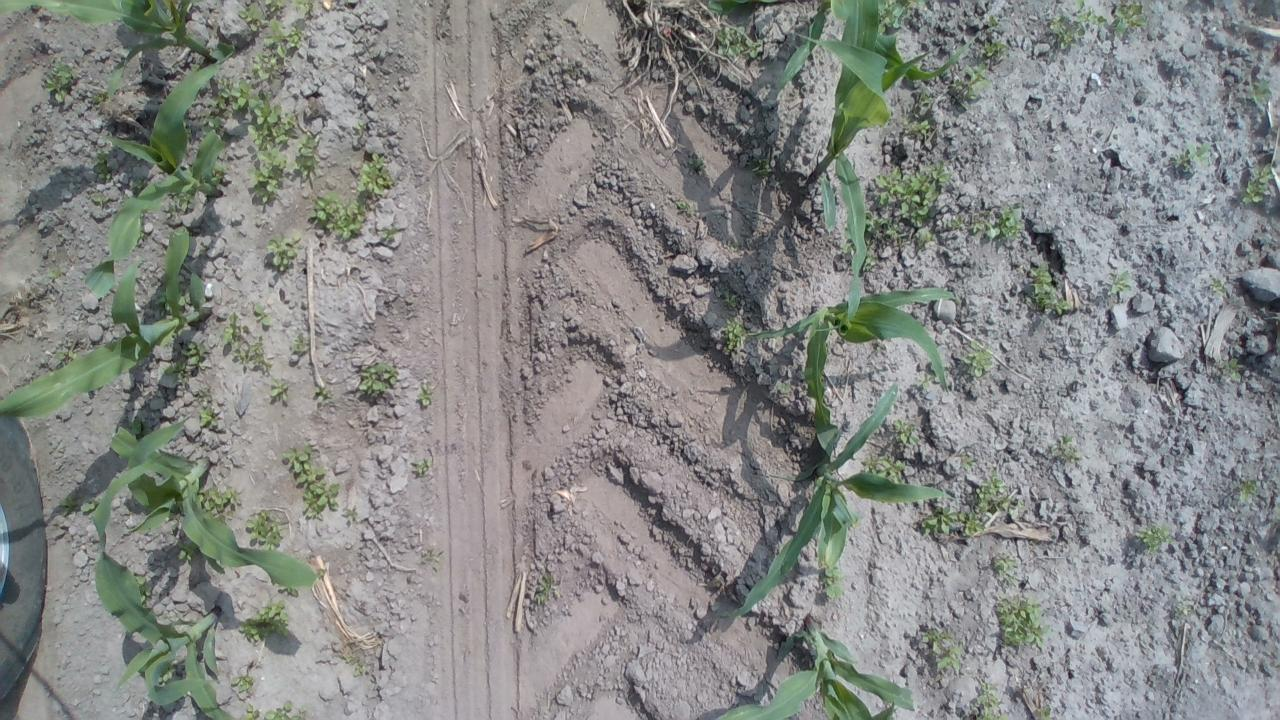Maize: (724, 382, 959, 616), (792, 0, 933, 339), (748, 287, 956, 483), (0, 226, 210, 419), (93, 464, 239, 720), (80, 52, 230, 301), (111, 419, 319, 588), (709, 0, 985, 91), (712, 614, 916, 720), (0, 0, 234, 92)
Weeds: (200, 77, 298, 146), (874, 161, 950, 229), (280, 445, 342, 520), (991, 593, 1054, 649), (248, 17, 303, 78), (222, 312, 272, 376), (306, 190, 368, 240), (920, 502, 986, 540), (244, 146, 288, 202), (1028, 261, 1072, 314), (974, 471, 1026, 514), (160, 339, 208, 385), (239, 599, 289, 643), (354, 152, 394, 198), (921, 628, 962, 672), (42, 62, 82, 105), (244, 510, 284, 551), (949, 64, 993, 101), (358, 358, 398, 398), (196, 484, 240, 520), (876, 0, 927, 31), (860, 454, 906, 486), (716, 25, 760, 58), (290, 128, 320, 176), (1241, 163, 1276, 204), (974, 681, 1009, 720), (961, 337, 994, 377), (266, 234, 301, 271), (1048, 15, 1086, 49), (861, 208, 900, 240), (1134, 523, 1173, 553), (242, 702, 306, 720), (818, 561, 848, 599), (1172, 142, 1210, 172), (1112, 0, 1148, 31), (996, 205, 1025, 241), (1072, 0, 1109, 26), (1048, 434, 1080, 464), (992, 552, 1019, 586), (722, 315, 746, 352), (238, 2, 268, 31), (892, 416, 921, 446), (164, 192, 196, 218), (58, 494, 98, 513), (1216, 358, 1244, 384), (92, 147, 112, 182), (1248, 78, 1276, 103), (900, 115, 930, 138), (310, 382, 335, 408), (134, 574, 152, 609), (972, 220, 1002, 240), (1106, 271, 1132, 294), (230, 673, 256, 695), (978, 38, 1008, 57), (208, 160, 229, 186), (535, 574, 553, 604), (914, 226, 938, 248), (252, 302, 274, 326), (413, 382, 433, 408), (862, 239, 878, 271), (1238, 477, 1259, 501), (270, 376, 289, 402), (915, 88, 933, 115), (957, 447, 976, 472), (197, 406, 218, 428), (176, 540, 198, 560), (90, 190, 112, 208), (416, 457, 434, 479), (749, 157, 769, 176), (54, 346, 78, 361), (157, 668, 176, 686), (721, 290, 740, 308), (984, 14, 1004, 31), (160, 286, 172, 313), (943, 214, 964, 229), (382, 224, 400, 241), (341, 506, 358, 524), (90, 90, 110, 105), (292, 0, 312, 14), (916, 373, 932, 390), (46, 265, 64, 280), (1210, 278, 1224, 296), (290, 334, 304, 352), (841, 240, 856, 256), (279, 586, 299, 598), (1036, 706, 1052, 720), (130, 178, 144, 194), (430, 554, 440, 576), (688, 158, 706, 170), (1174, 604, 1191, 616), (178, 288, 189, 306), (353, 118, 367, 132), (351, 662, 364, 677), (675, 198, 690, 211), (722, 239, 736, 252), (775, 382, 791, 393), (266, 0, 286, 8), (314, 568, 324, 582), (342, 654, 353, 664)
